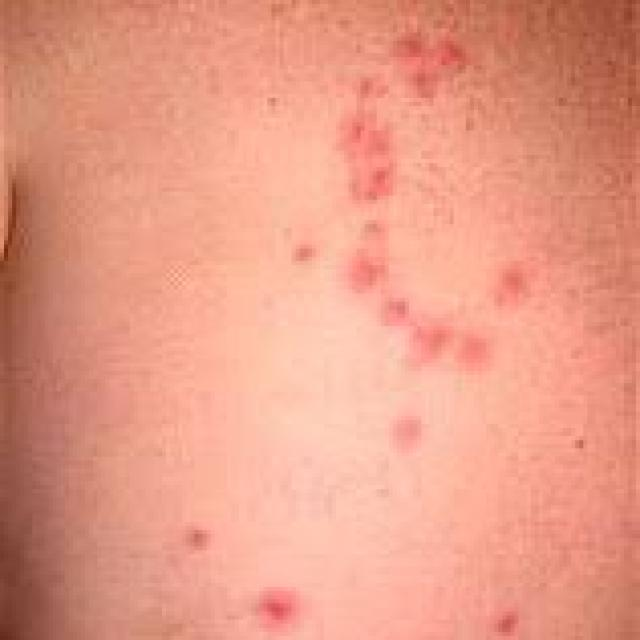tahta-kurusu: (249, 52, 582, 377)
